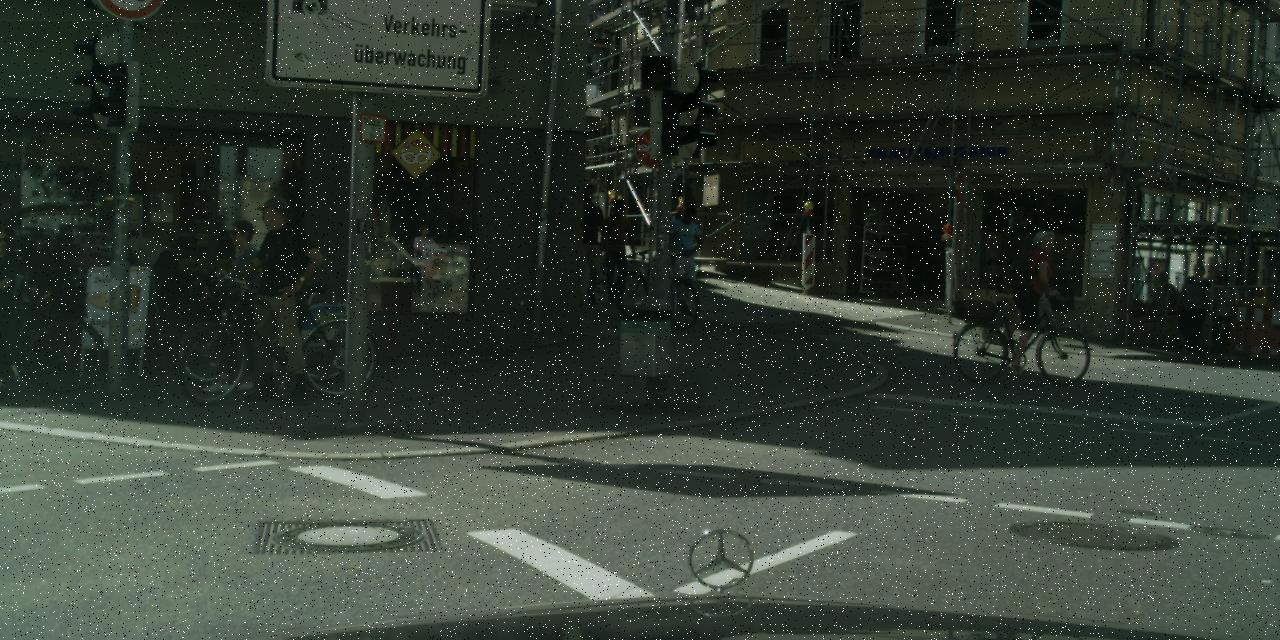ped: (235, 196, 318, 402), (203, 219, 273, 390), (1004, 231, 1054, 357), (562, 184, 610, 304), (0, 228, 31, 388), (597, 198, 639, 303), (666, 206, 706, 308), (124, 228, 164, 328), (1176, 264, 1212, 352)
